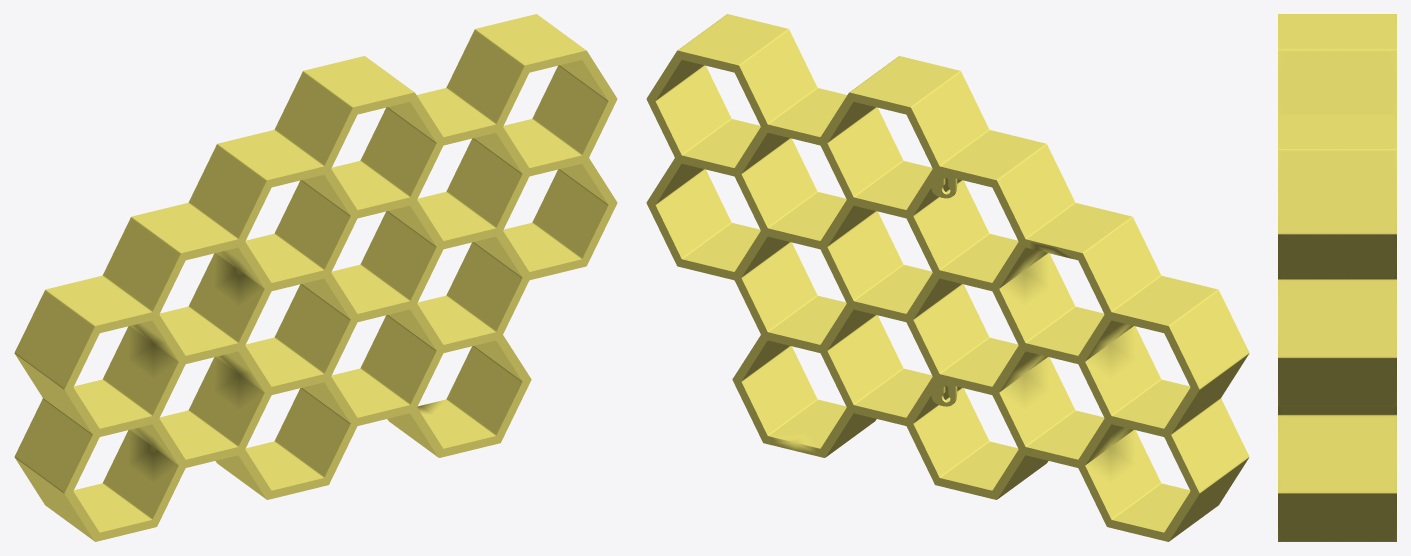
The model's file is honeycomb_shelf.glb.
3 renders of one model, left to right at view 1: azimuth 30°, elevation 25°; view 2: azimuth 150°, elevation 25°; view 3: azimuth 270°, elevation 25°, orthographic. The views are drawn at different scales.
Parts seen in each view (by area): view 1: Object_2, Object_3; view 2: Object_2, Object_3; view 3: Object_2.
Boxes of the visible parts, x1,y1,x2,y2 form: Object_2: (14,14,617,541); Object_3: (103,180,418,519); Object_2: (646,14,1249,541); Object_3: (839,185,1161,518); Object_2: (1278,14,1396,541).
Size of the model in its own units: 581 by 373 by 90.88.
